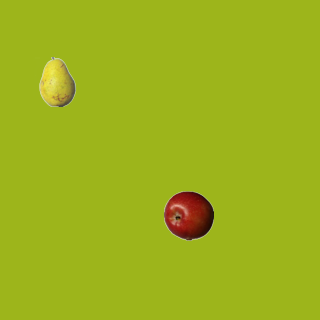Apple Braeburn: (163, 190, 213, 240)
Pear Monster: (32, 56, 82, 106)
